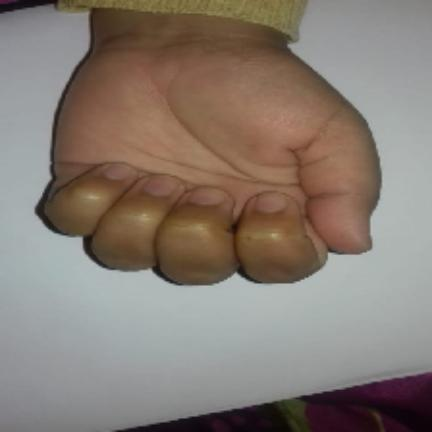Nail: (188, 186, 229, 206), (143, 174, 180, 196), (256, 192, 286, 213), (104, 164, 137, 180)
